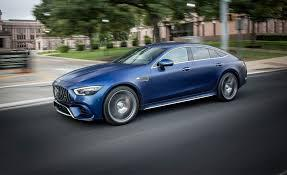car: (53, 40, 248, 130), (53, 40, 248, 124)
